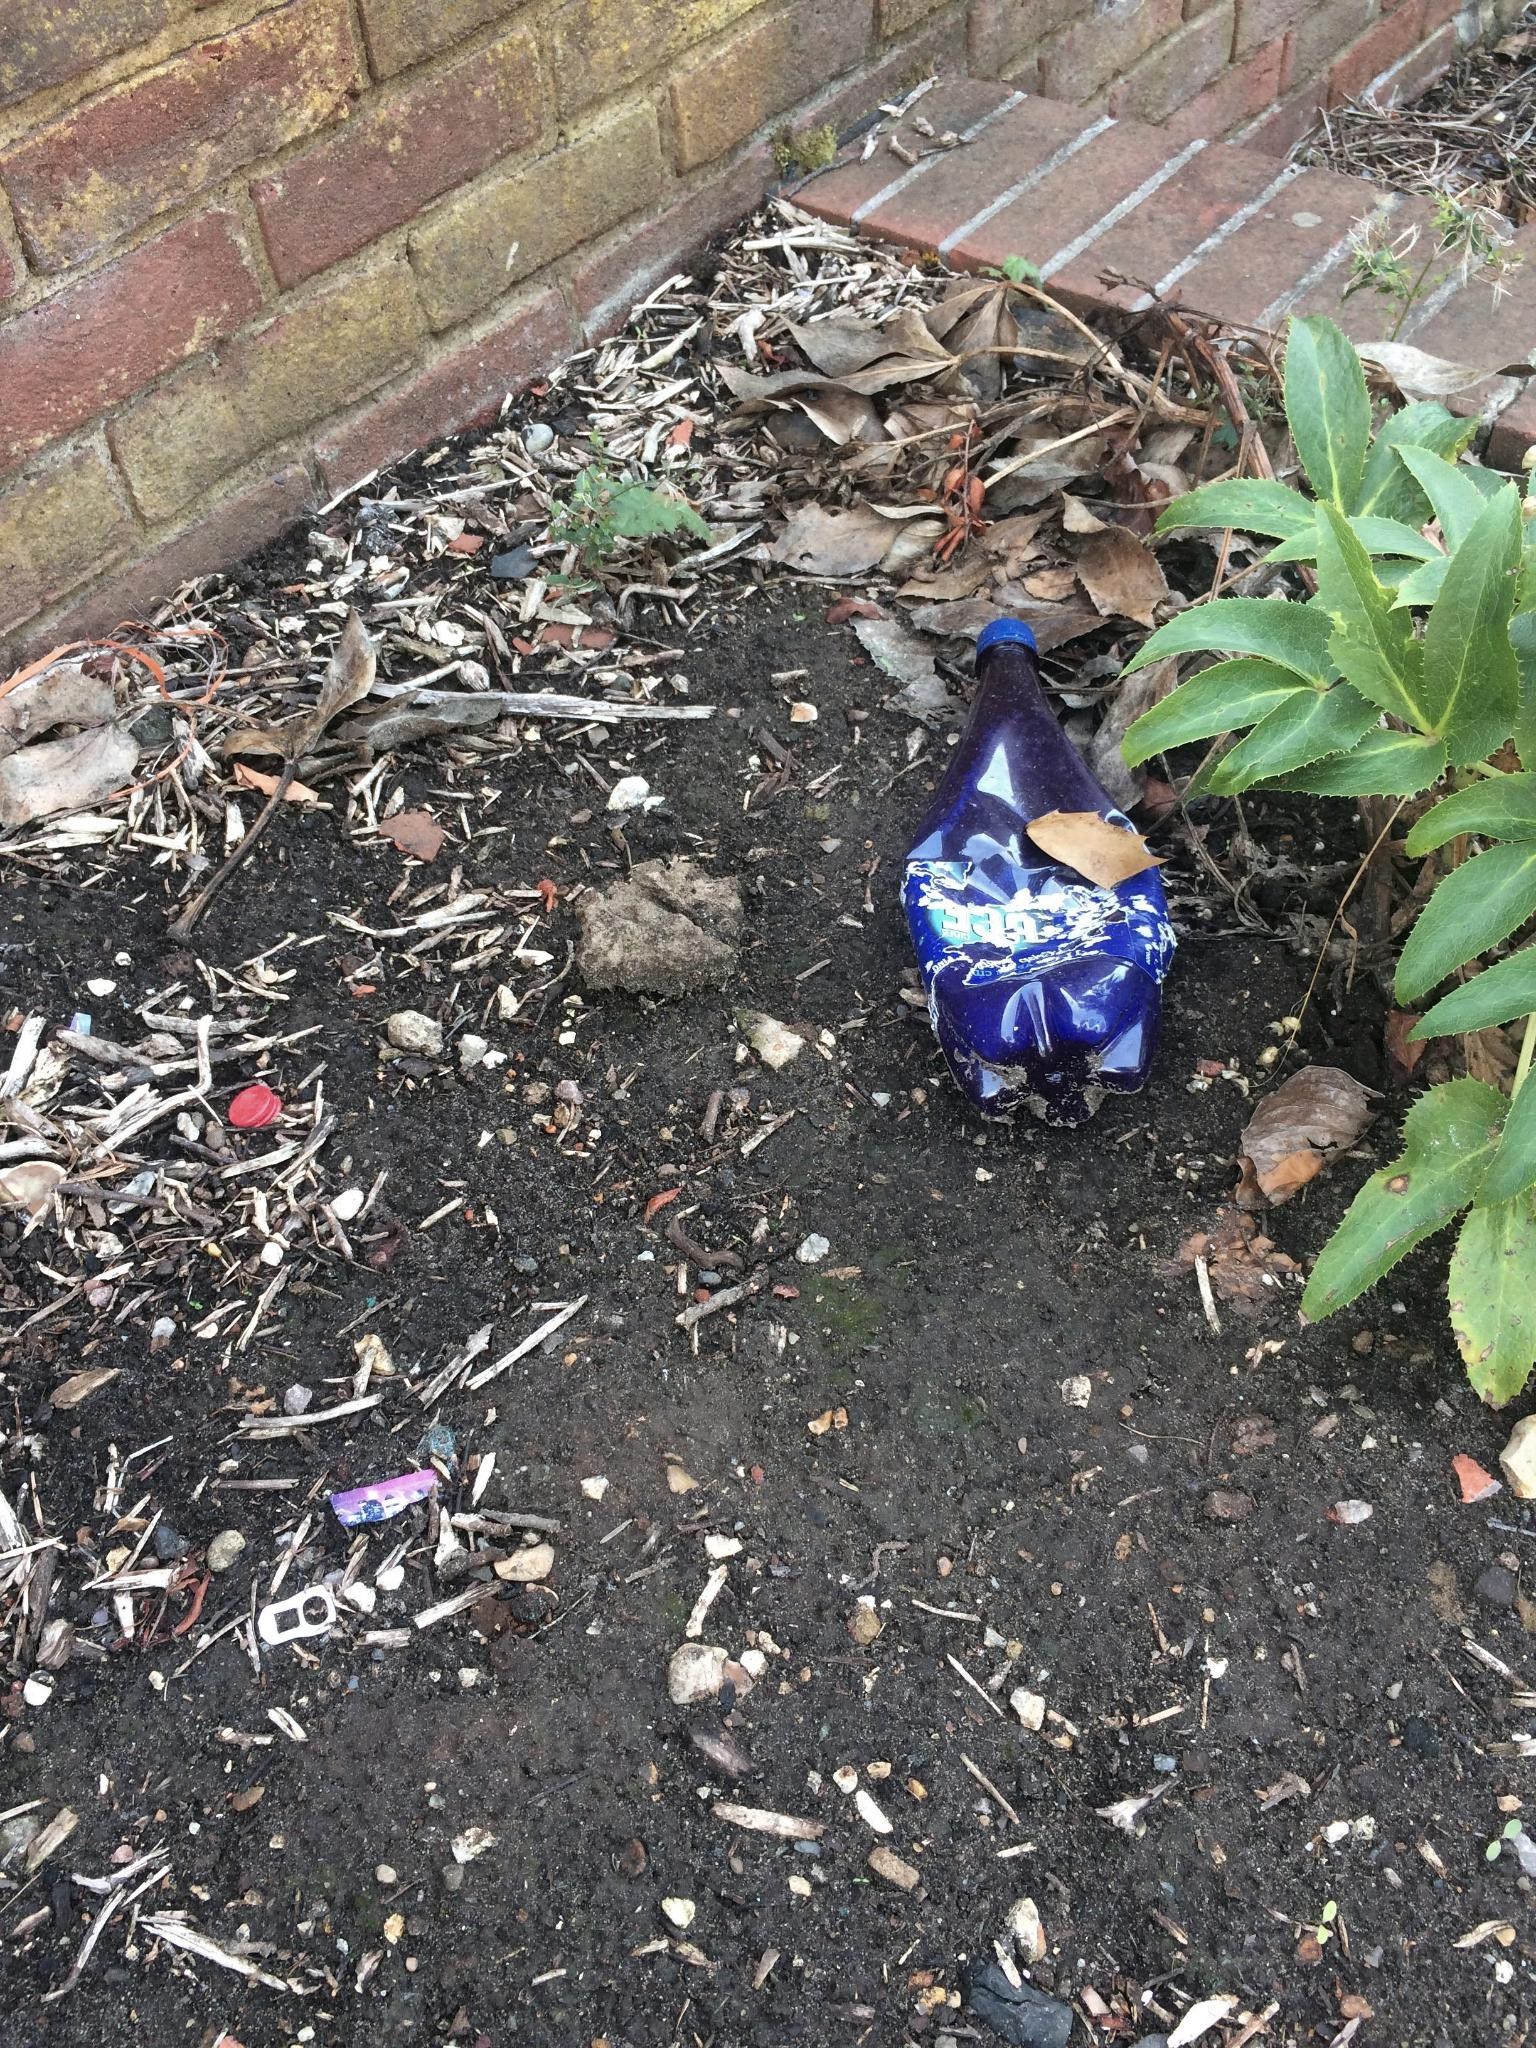Plastic: (855, 597, 1202, 1138)
